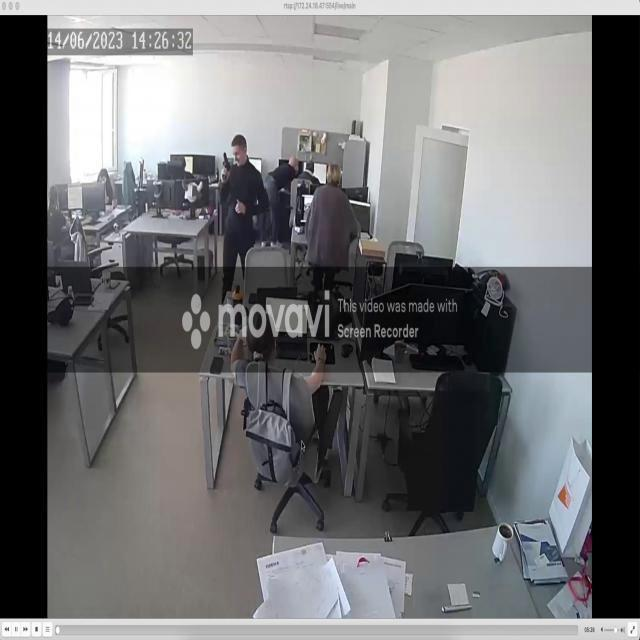gun: (218, 134, 271, 272), (221, 150, 229, 176)
